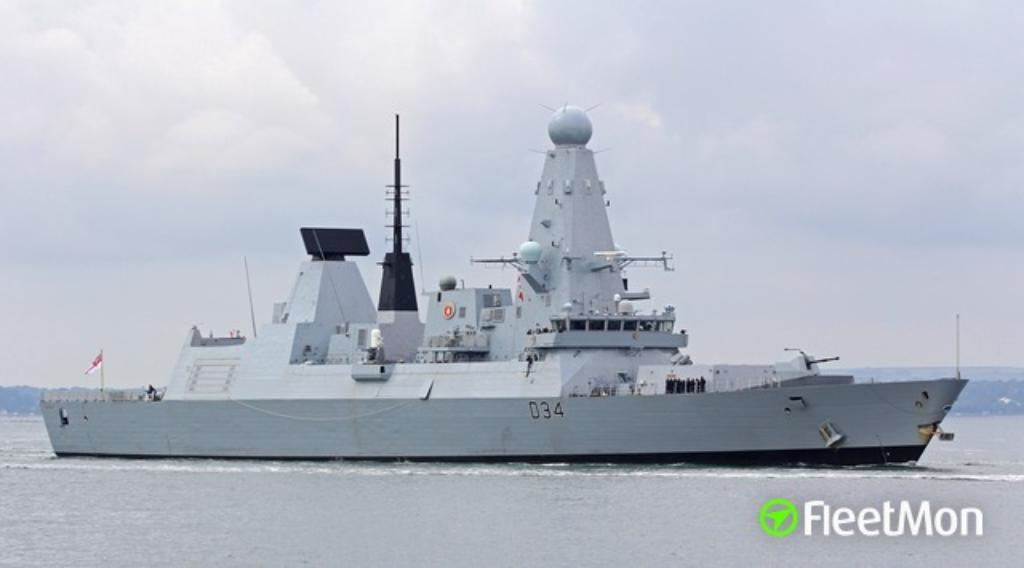Warship: (40, 101, 970, 467)
